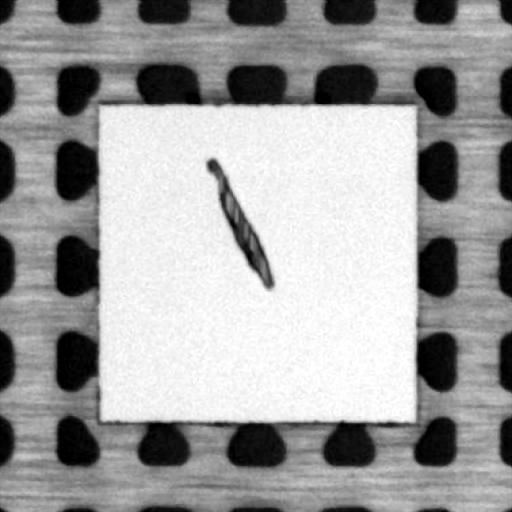DIE_INK: (200, 154, 284, 303)
